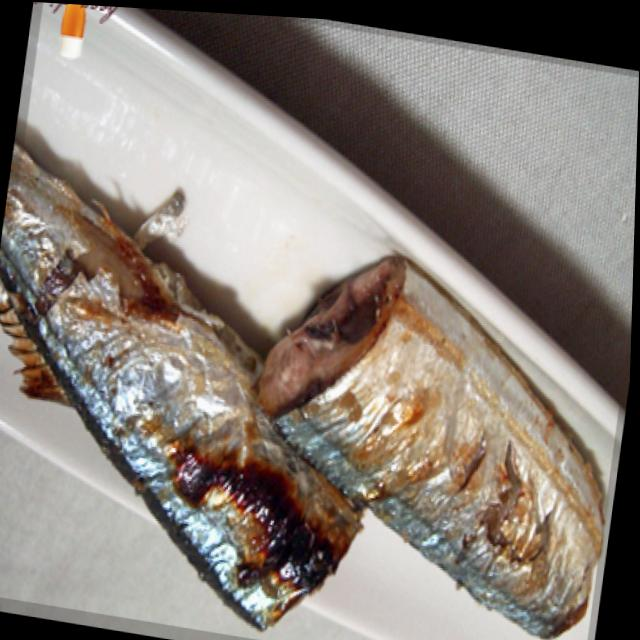熟制海鲜: (0, 119, 637, 640)
